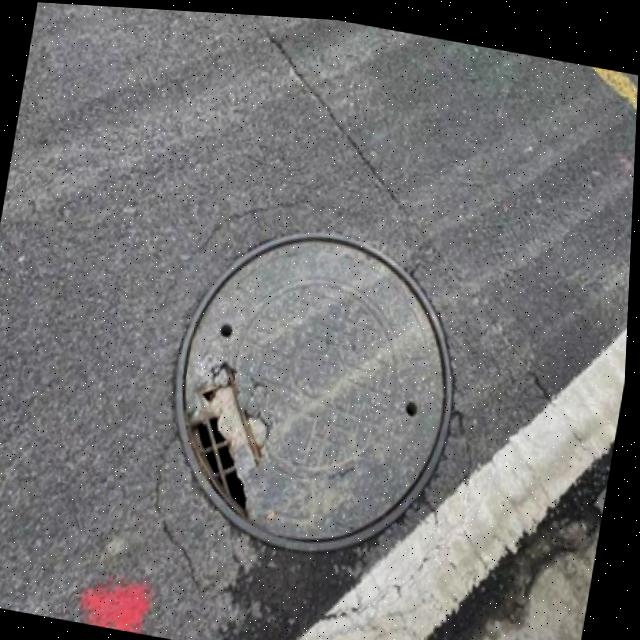manhole: (147, 202, 481, 568)
